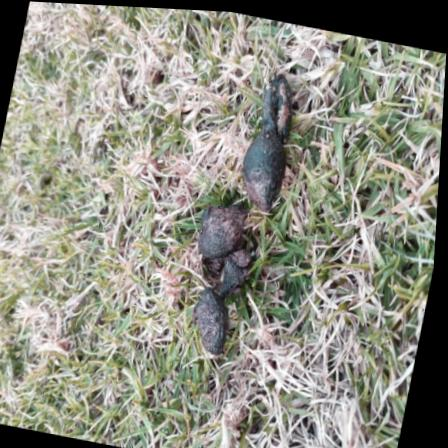dog-poop: (177, 53, 312, 364)
